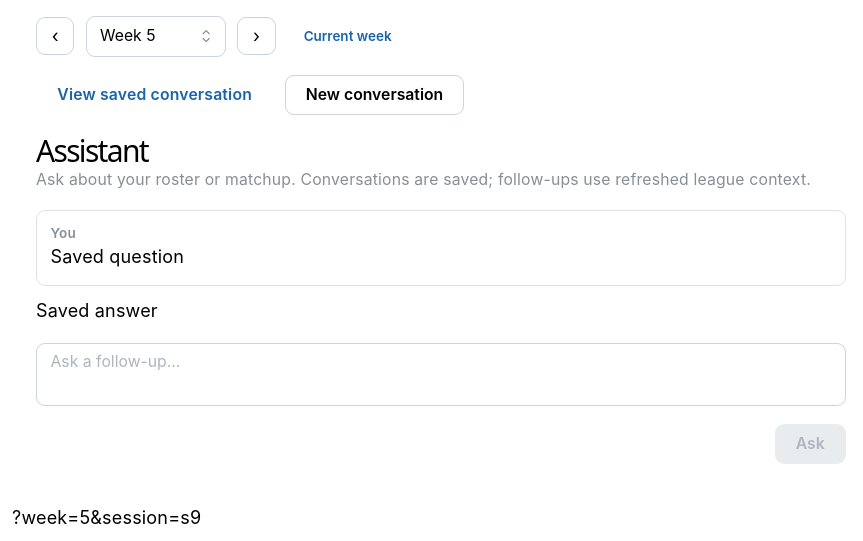
Scenario: clears a conversation loaded from the URL when starting a new one
The image size is (863, 541).
Expected: the text "Saved answer" is shown, [36,300,158,321]
Click the button "New conversation". click: (374, 95)
box: [284,74,464,115]
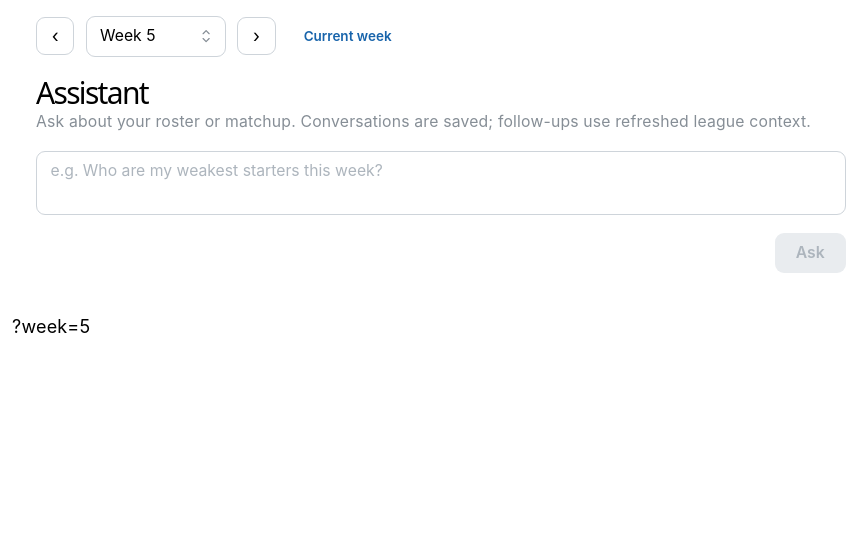
Expected: the text with test id "location" reads "?week=5", [12,316,90,337]
Expected: the text "Saved answer" is gone
Expected: the button "New conversation" is gone
